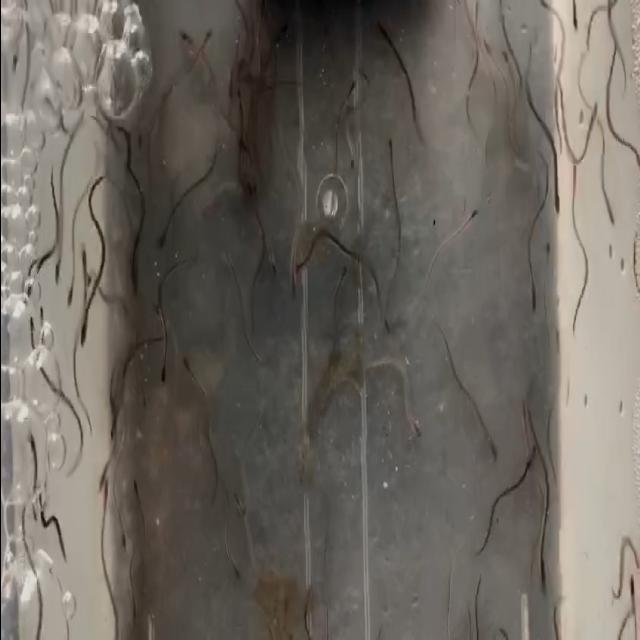active_glass_eel: (162, 16, 190, 50), (74, 312, 92, 364), (336, 57, 360, 95), (530, 548, 548, 597), (526, 438, 542, 492), (587, 93, 605, 139), (550, 173, 567, 216), (482, 432, 502, 468), (294, 250, 314, 286), (524, 274, 538, 320), (92, 462, 106, 508), (192, 364, 208, 403), (382, 129, 399, 163), (465, 196, 481, 232), (36, 295, 48, 341), (375, 20, 393, 50), (337, 258, 352, 294), (230, 486, 244, 524), (566, 8, 582, 40), (404, 414, 424, 439), (116, 524, 132, 554), (127, 594, 139, 634), (346, 140, 360, 174), (152, 224, 169, 252), (202, 22, 218, 51), (20, 266, 34, 298), (23, 314, 40, 340), (270, 249, 284, 279), (154, 358, 168, 388), (231, 90, 245, 118), (232, 558, 247, 584), (607, 205, 619, 237), (626, 569, 636, 607), (51, 255, 61, 287), (130, 472, 139, 506), (62, 282, 72, 310), (26, 434, 40, 452), (632, 143, 640, 171)
